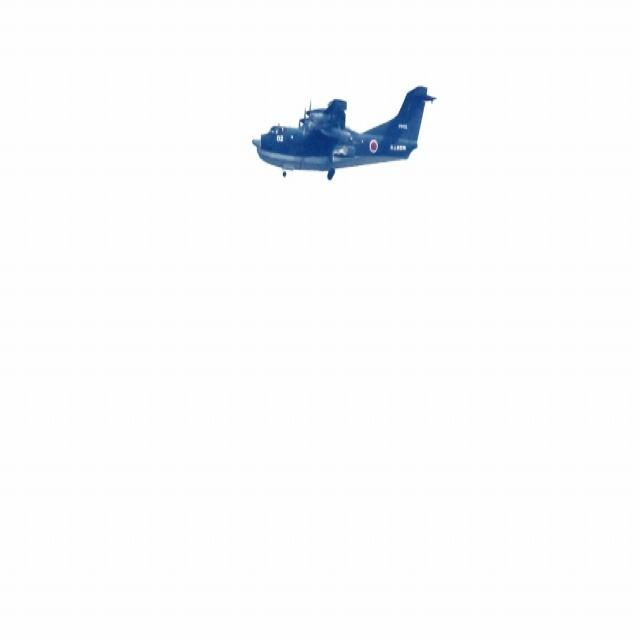MIL_Plane: (251, 84, 437, 182)
